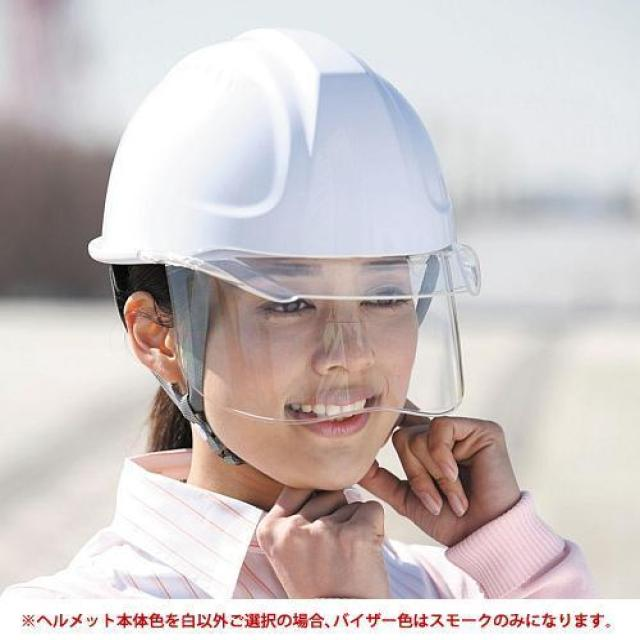helmet: (87, 27, 458, 316)
